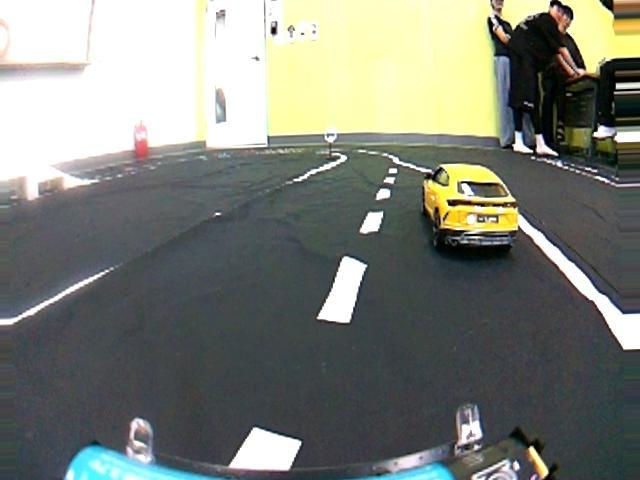car: (409, 157, 535, 255)
left: (0, 232, 635, 470)
